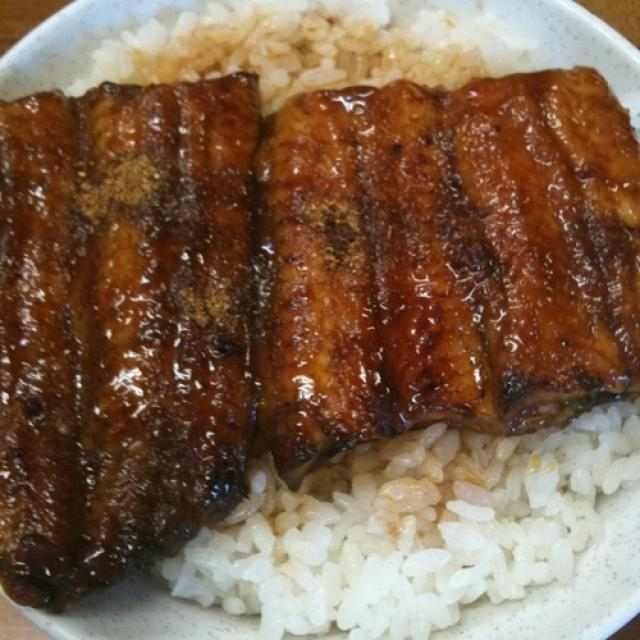熟制海鲜: (9, 21, 631, 613)
